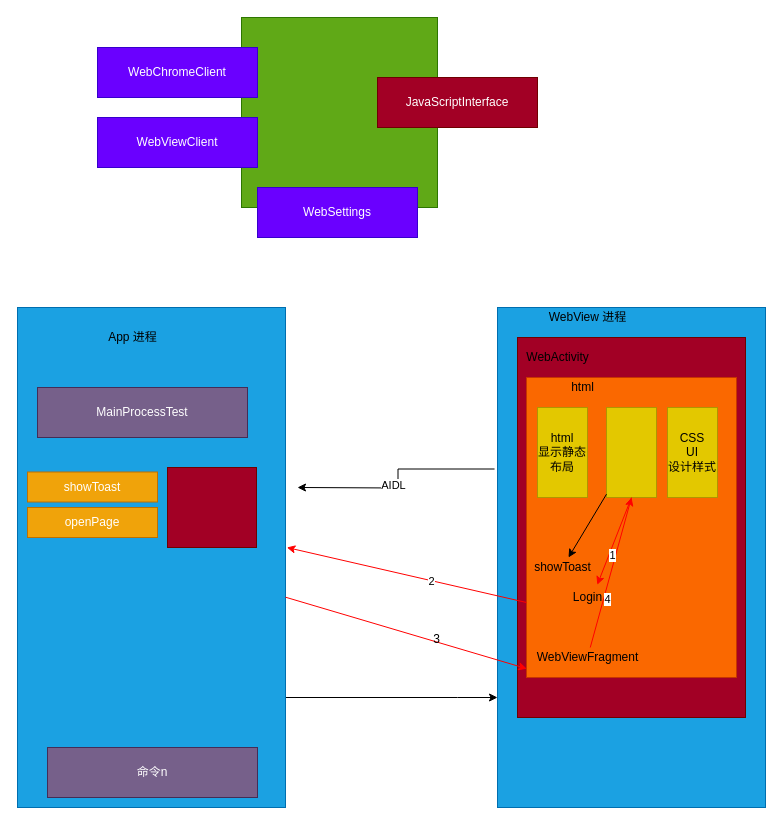
This 783x825 diagram has some shape labels left out. The centre of each missing label's shape, as x and y in pixels:
"JavaScript" goes at point 631,452.
"Service" goes at point 211,507.
"WebView" goes at point 339,112.
